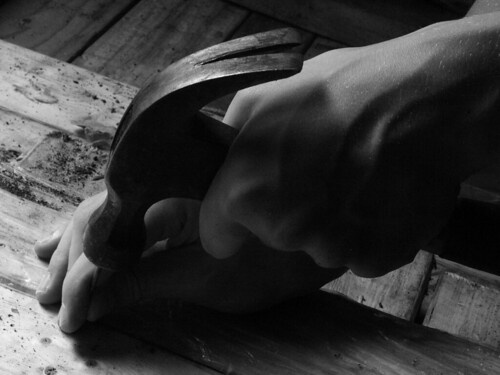hammer: (82, 34, 500, 271)
